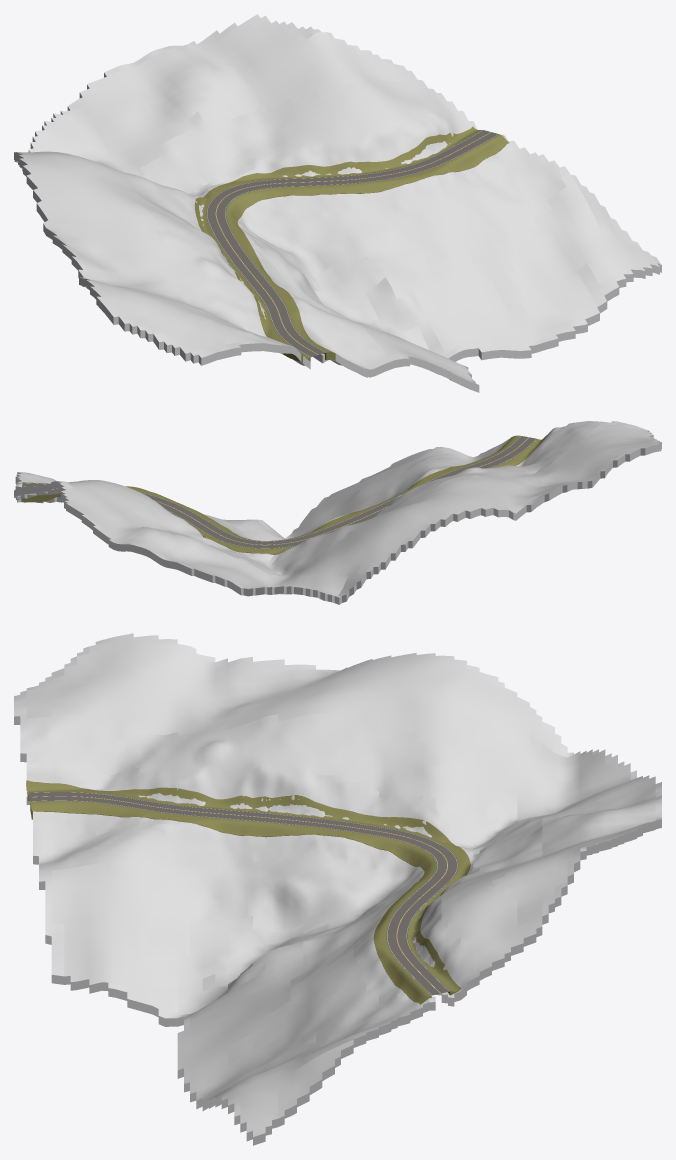
Rendered from conz_171.glb.
3 views of the same model, one above another, from view 1: azimuth 30°, elevation 25°; view 2: azimuth 150°, elevation 25°; view 3: azimuth 270°, elevation 25° (orthographic). The views are drawn at different scales.
Visible parts, largest first — view 1: terrain171, road171, verge171L, verge171R, paint_white171; view 2: terrain171, road171, verge171L, verge171R, paint_white171, paint_yellow171; view 3: terrain171, road171, verge171L, verge171R, paint_white171.
Boxes of the visible parts, x1=… form: terrain171: x1=14, y1=14, x2=661, y2=392; road171: x1=206, y1=130, x2=498, y2=357; verge171L: x1=226, y1=134, x2=509, y2=360; verge171R: x1=194, y1=126, x2=481, y2=362; paint_white171: x1=207, y1=130, x2=497, y2=356; terrain171: x1=14, y1=421, x2=661, y2=604; road171: x1=22, y1=436, x2=536, y2=548; verge171L: x1=22, y1=435, x2=520, y2=541; verge171R: x1=21, y1=435, x2=546, y2=554; paint_white171: x1=26, y1=436, x2=535, y2=548; paint_yellow171: x1=24, y1=437, x2=528, y2=545; terrain171: x1=14, y1=633, x2=661, y2=1145; road171: x1=28, y1=792, x2=458, y2=995; verge171L: x1=30, y1=801, x2=436, y2=1004; verge171R: x1=26, y1=780, x2=470, y2=995; paint_white171: x1=28, y1=792, x2=457, y2=994.
Bounding box in the file's own units: 248 × 77.19 × 206.
